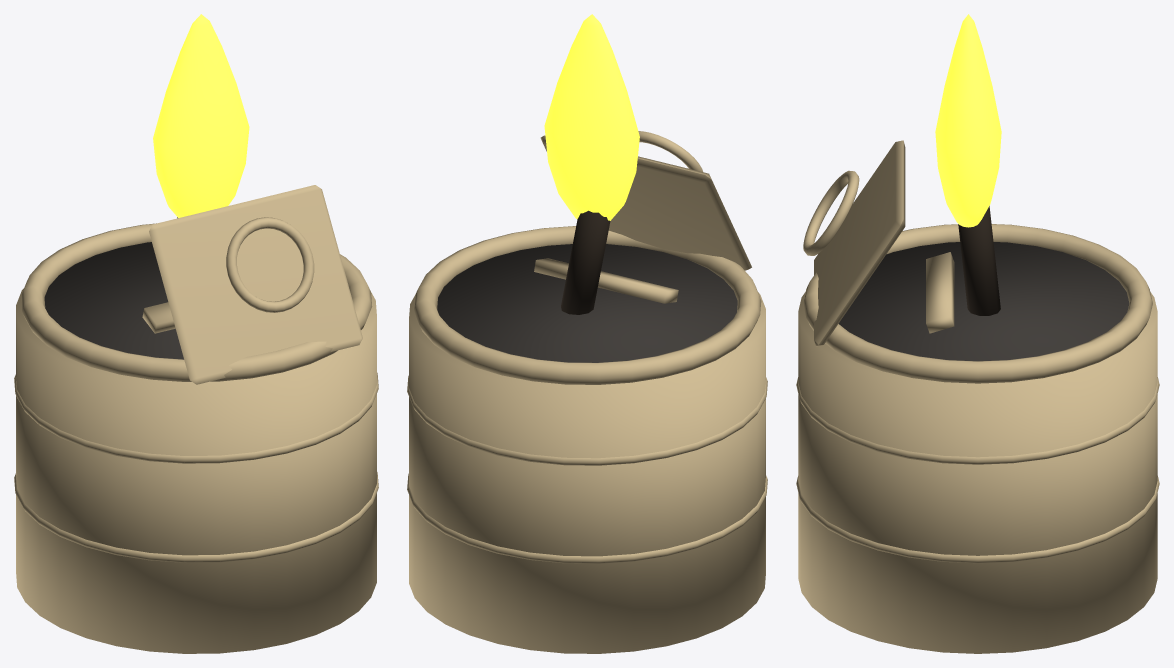
The model's file is TinCanLamp_Lit.fbx.
The picture shows the model from 3 angles, left to right: view 1: azimuth 30°, elevation 25°; view 2: azimuth 150°, elevation 25°; view 3: azimuth 270°, elevation 25°; orthographic projection.
Parts seen in each view (by area): view 1: tin_can_body, bent_back_lid_flap, lit_flame_outer, rolled_top_rim, open_dark_top_recess, pressed_can_rib_upper, pressed_can_rib_lower, pull_tab_ring_on_bent_lid, bent_lid_hinge_strip; view 2: tin_can_body, open_dark_top_recess, rolled_top_rim, lit_flame_outer, bent_back_lid_flap, short_unlit_wick, pressed_can_rib_upper, pressed_can_rib_lower, bent_lid_hinge_strip, pull_tab_ring_on_bent_lid; view 3: tin_can_body, open_dark_top_recess, rolled_top_rim, lit_flame_outer, bent_back_lid_flap, short_unlit_wick, pressed_can_rib_lower, pressed_can_rib_upper, bent_lid_hinge_strip, pull_tab_ring_on_bent_lid.
Boxes of the visible parts, x1,y1,x2,y2 form: tin_can_body: (16, 288, 376, 653); bent_back_lid_flap: (149, 185, 362, 384); lit_flame_outer: (153, 14, 249, 217); rolled_top_rim: (21, 223, 372, 381); open_dark_top_recess: (44, 242, 183, 359); pressed_can_rib_upper: (14, 372, 378, 463); pressed_can_rib_lower: (14, 472, 378, 562); pull_tab_ring_on_bent_lid: (226, 217, 314, 312); bent_lid_hinge_strip: (142, 302, 175, 333); tin_can_body: (409, 292, 765, 653); open_dark_top_recess: (437, 244, 737, 362); rolled_top_rim: (413, 226, 761, 384); lit_flame_outer: (544, 14, 639, 220); bent_back_lid_flap: (540, 135, 751, 270); short_unlit_wick: (561, 210, 610, 314); pressed_can_rib_upper: (407, 375, 767, 465); pressed_can_rib_lower: (407, 473, 767, 563); bent_lid_hinge_strip: (534, 258, 678, 303); pull_tab_ring_on_bent_lid: (638, 131, 702, 171); tin_can_body: (798, 292, 1157, 653); open_dark_top_recess: (838, 242, 1129, 361); rolled_top_rim: (803, 224, 1152, 383); lit_flame_outer: (935, 14, 1001, 227); bent_back_lid_flap: (814, 140, 905, 346); short_unlit_wick: (958, 206, 1000, 315); pressed_can_rib_lower: (796, 476, 1159, 563); pressed_can_rib_upper: (796, 377, 1159, 464); bent_lid_hinge_strip: (926, 252, 954, 333); pull_tab_ring_on_bent_lid: (803, 170, 859, 255).
Bounding box in the file's own units: 0.768 × 1.32 × 0.768.
